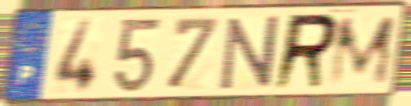4: (52, 16, 99, 97)
5: (111, 16, 164, 95)
7: (168, 16, 222, 93)
M: (326, 13, 399, 89)
N: (219, 13, 281, 93)
R: (270, 11, 342, 93)
